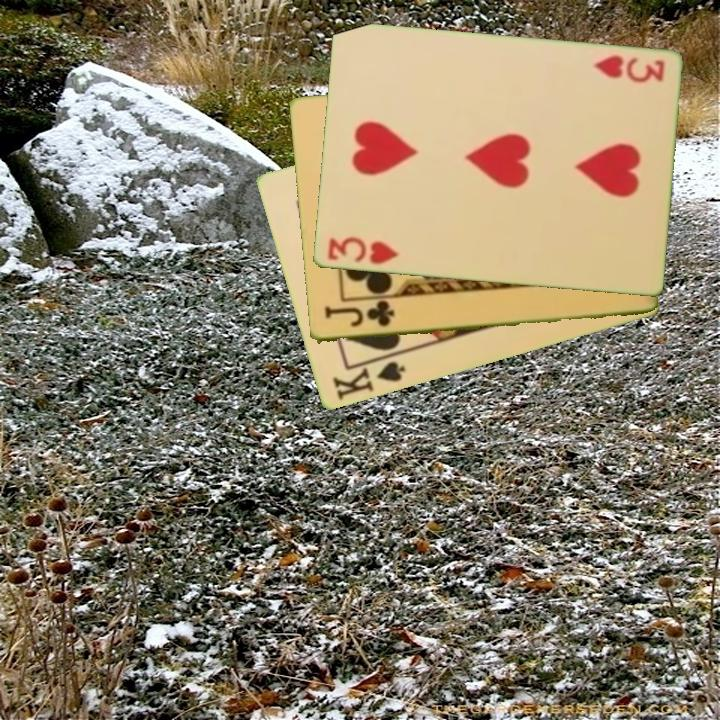3h: (323, 234, 401, 268), (589, 52, 667, 86)
Jc: (320, 299, 397, 330)
Ks: (329, 350, 408, 404)
